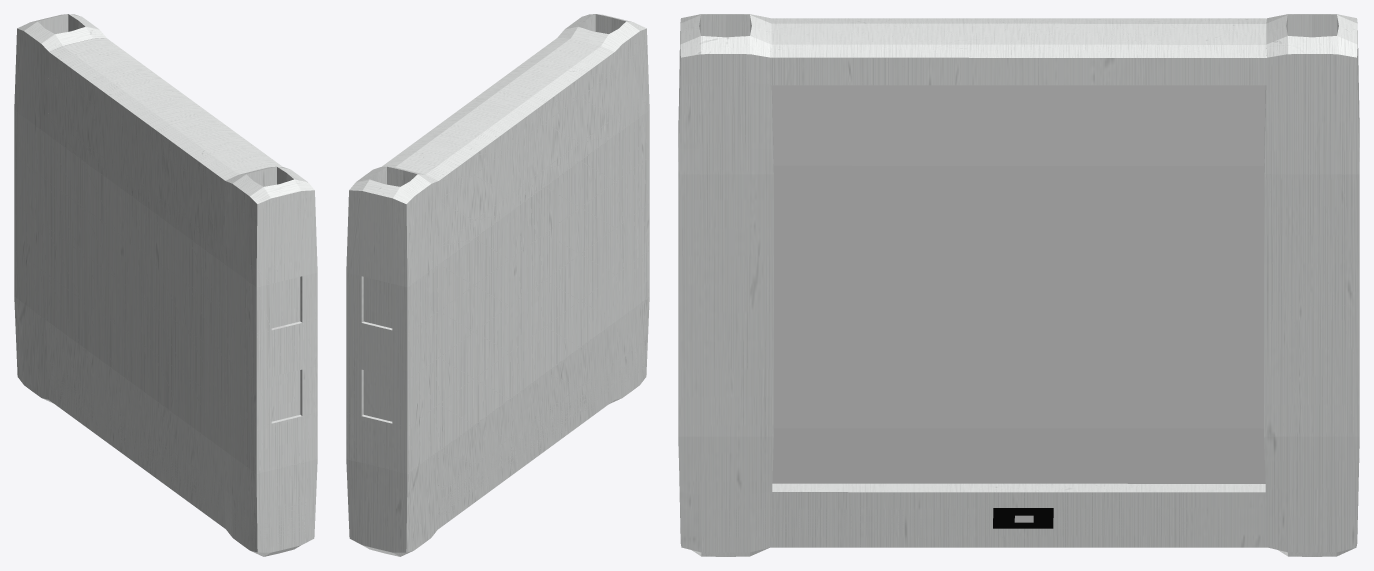
The model's file is Controle de Acesso.fbx.
The picture shows the model from 3 angles, left to right: view 1: azimuth 30°, elevation 25°; view 2: azimuth 150°, elevation 25°; view 3: azimuth 270°, elevation 25°; orthographic projection. The views are drawn at different scales.
Visible parts, largest first — view 1: Cube.001; view 2: Cube.001; view 3: Cube.001.
Boxes of the visible parts, bbox=[...] form: Cube.001: bbox=[14, 14, 317, 556]; Cube.001: bbox=[346, 14, 649, 556]; Cube.001: bbox=[678, 14, 1359, 556].
Bounding box in the file's own units: 14.85 × 85.97 × 102.
